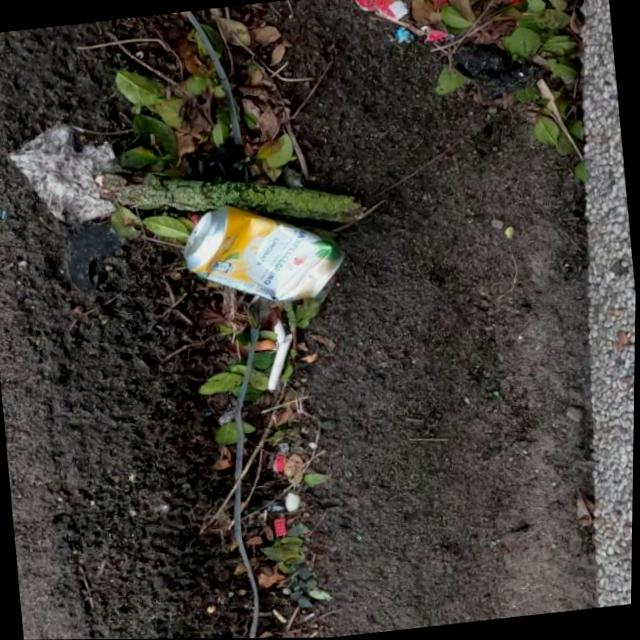Can-Metal: (175, 191, 353, 314)
Paper: (0, 111, 132, 231), (347, 0, 454, 53)
